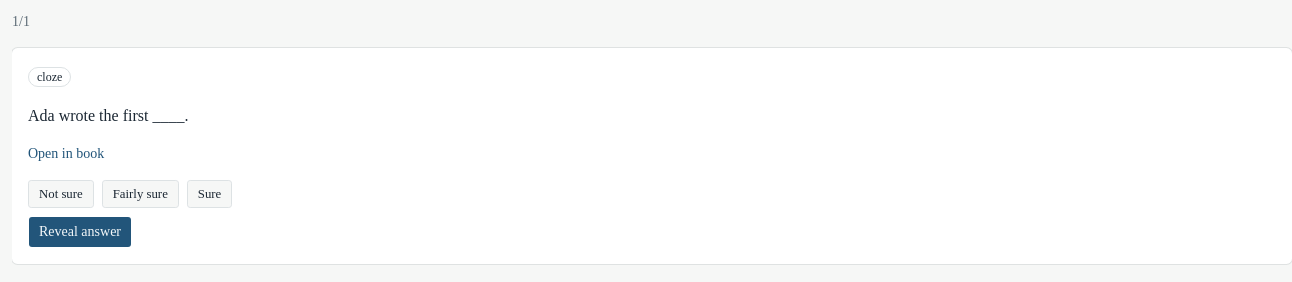
Test: ReviewScreen grading shortcuts (CAP-30/31/32) › submits the pressed grade once the answer is revealed
Expected: the text "Ada wrote the first ____." is shown, [28,107,188,124]
Click the button "Reveal answer" at (80, 232), box [28,216,132,248]
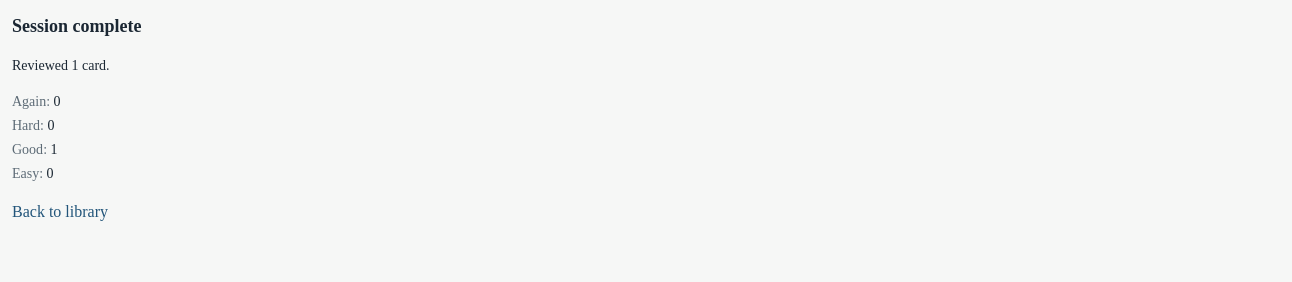
Expected: the text "Reviewed 1 card." is shown, [12,58,110,73]
